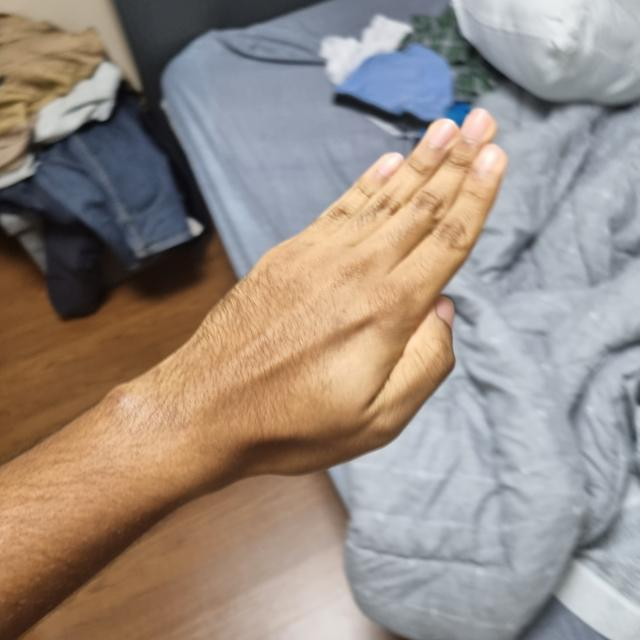Paper: (169, 122, 501, 472)
